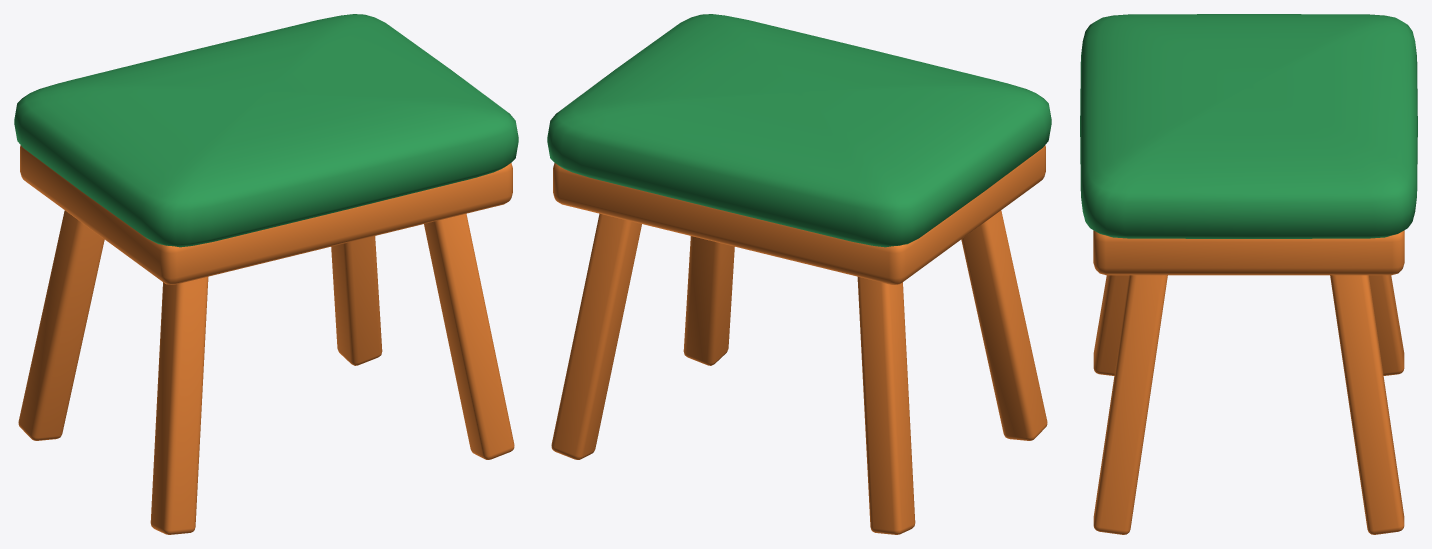
Rendered from banqueta_estofada_verde.glb.
3 views of the same model, side by side, from view 1: azimuth 30°, elevation 25°; view 2: azimuth 150°, elevation 25°; view 3: azimuth 270°, elevation 25° (orthographic). The views are drawn at different scales.
Visible parts, largest first — view 1: banqueta_estofada_verde; view 2: banqueta_estofada_verde; view 3: banqueta_estofada_verde.
Boxes of the visible parts, <box> form: banqueta_estofada_verde: <box>14,14,518,534</box>; banqueta_estofada_verde: <box>547,14,1051,534</box>; banqueta_estofada_verde: <box>1080,14,1417,534</box>.
Bounding box in the file's own units: 0.5 × 0.4538 × 0.38.
Materials: 1 (1 with a texture image).
